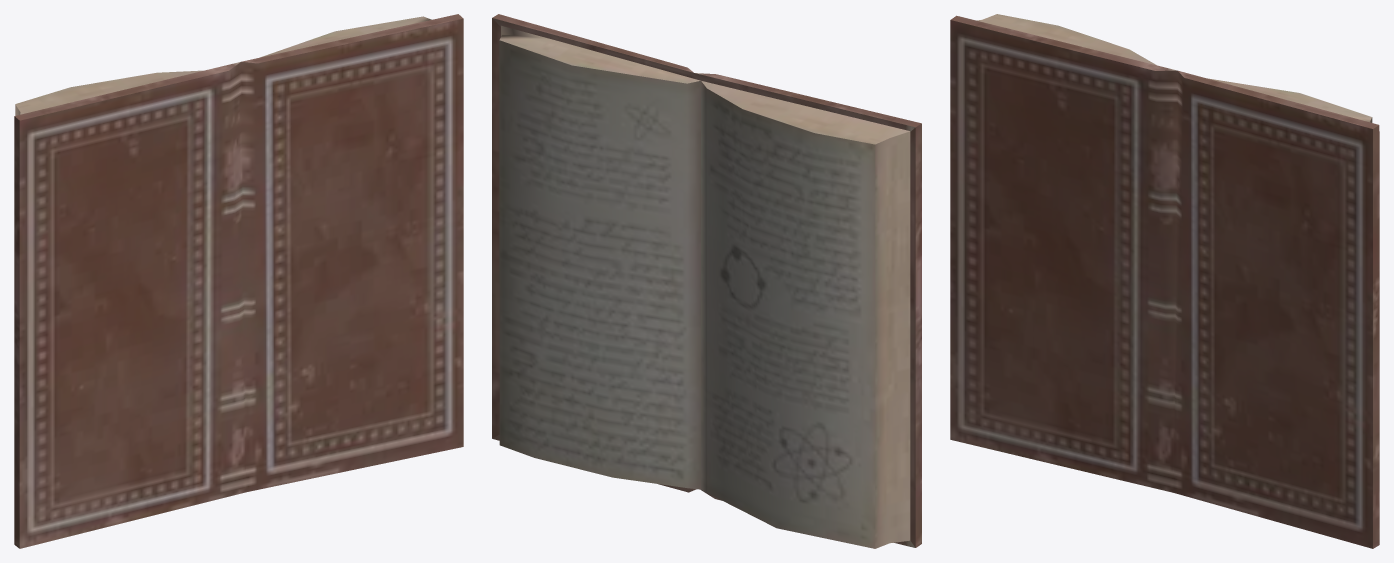
Rendered from SM_book_open_64dbc9.glb.
3 renders of one model, left to right at view 1: azimuth 30°, elevation 25°; view 2: azimuth 150°, elevation 25°; view 3: azimuth 330°, elevation 25°, orthographic. The views are drawn at different scales.
Size of the model in its own units: 0.3224 by 0.3013 by 0.0458.
Materials: 1 (1 with a texture image).
